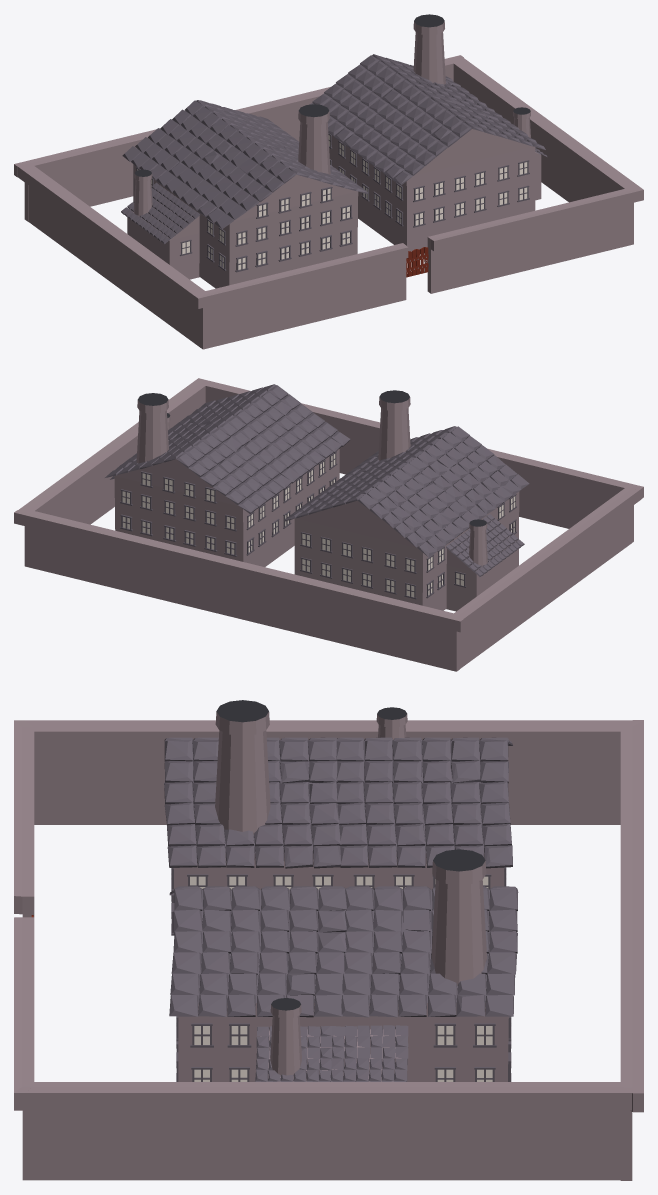
Rendered from Factory.fbx.
3 renders of one model, top to bottom at view 1: azimuth 30°, elevation 25°; view 2: azimuth 150°, elevation 25°; view 3: azimuth 270°, elevation 25°, orthographic. The views are drawn at different scales.
Parts seen in each view (by area): view 1: Factory; view 2: Factory; view 3: Factory.
Boxes of the visible parts, x1,y1,x2,y2 form: Factory: [14, 14, 643, 349]; Factory: [14, 378, 643, 671]; Factory: [14, 700, 643, 1180].
Bounding box in the file's own units: 4472 × 6271 × 2000.
